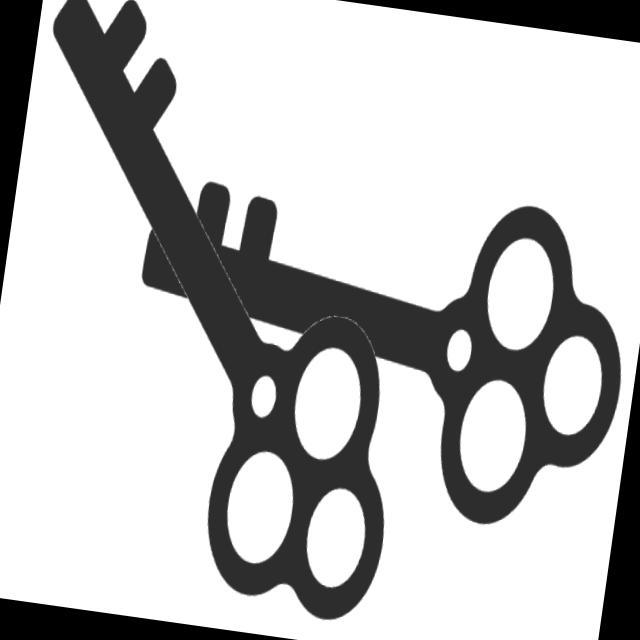key: (1, 1, 461, 640), (105, 141, 640, 552)
